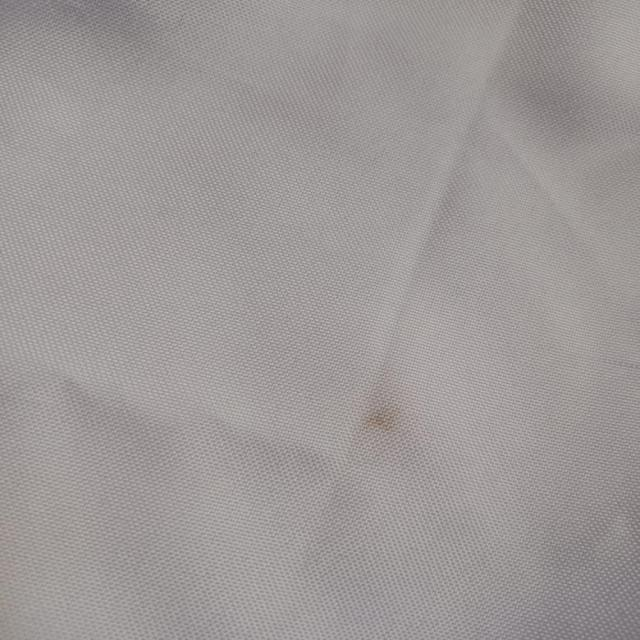stain: (354, 402, 408, 438)
